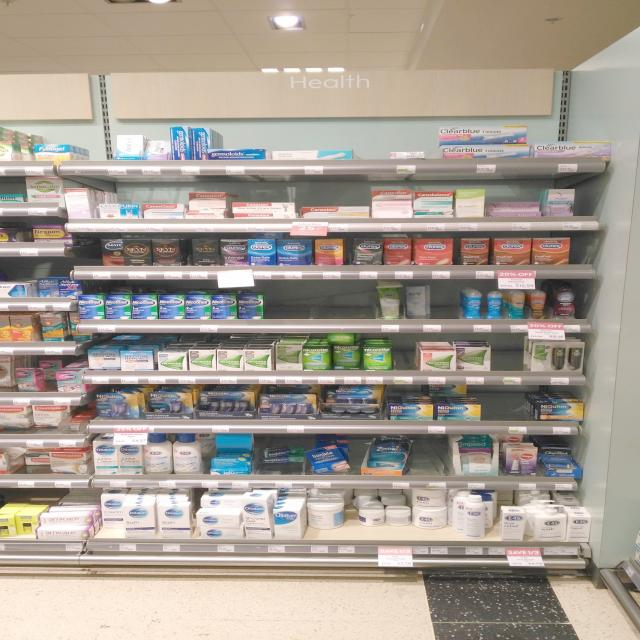empty_space: (271, 286, 371, 318), (416, 440, 446, 476), (441, 290, 459, 318)
